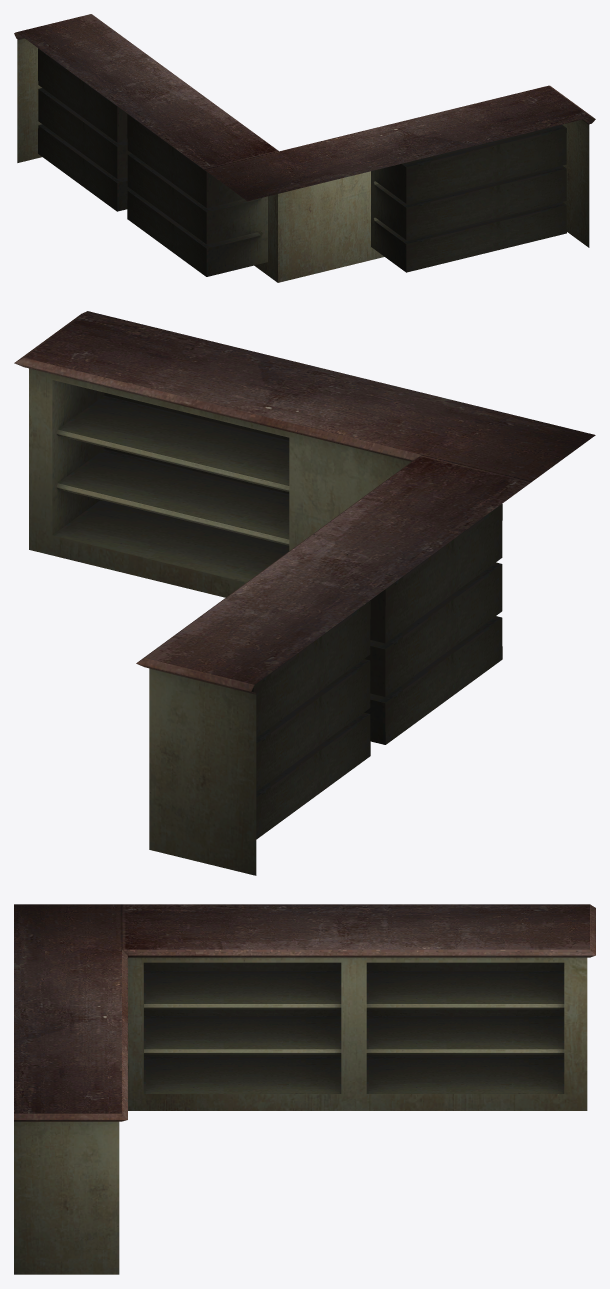
The model's file is bakery_counter2.glb.
The picture shows the model from 3 angles, top to bottom: view 1: azimuth 30°, elevation 25°; view 2: azimuth 150°, elevation 25°; view 3: azimuth 270°, elevation 25°; orthographic projection. The views are drawn at different scales.
Parts seen in each view (by area): view 1: bakery_counter2; view 2: bakery_counter2; view 3: bakery_counter2.
Part boxes in pixels (bbox=[...]): bakery_counter2: bbox=[14, 14, 595, 282]; bakery_counter2: bbox=[14, 311, 595, 875]; bakery_counter2: bbox=[14, 904, 595, 1274].
Size of the model in its own units: 2.13 by 0.762 by 2.48.
Materials: 1 (1 with a texture image).
